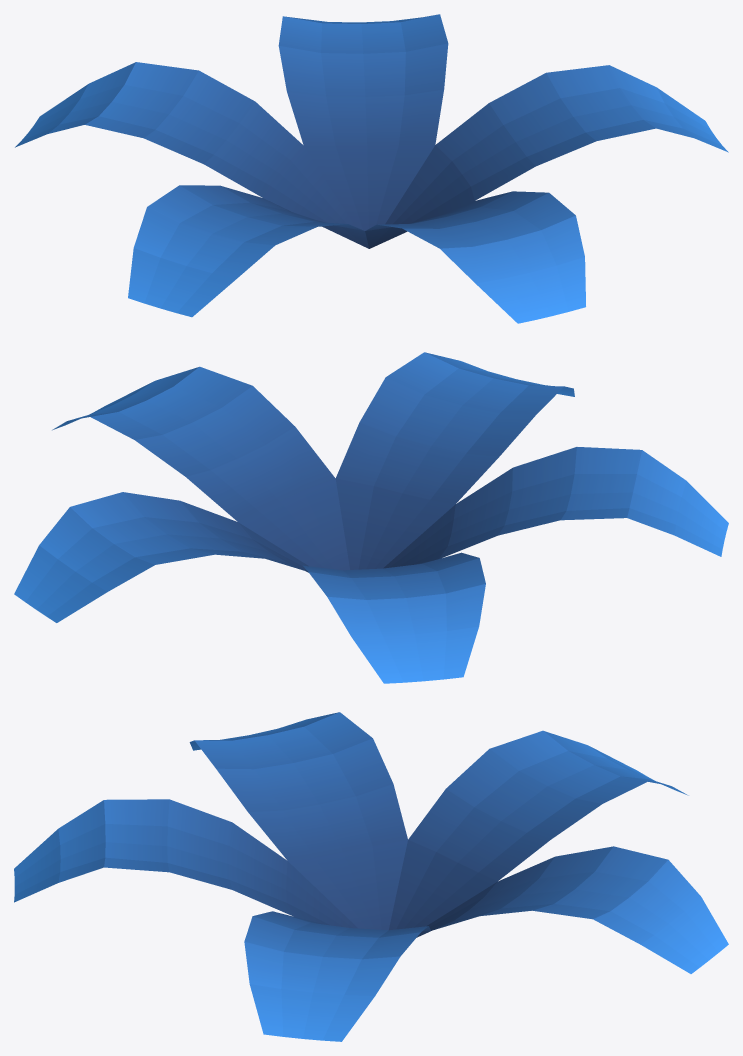
File: BlueBush.fbx
The picture shows the model from 3 angles, top to bottom: view 1: azimuth 30°, elevation 25°; view 2: azimuth 150°, elevation 25°; view 3: azimuth 270°, elevation 25°; orthographic projection. The views are drawn at different scales.
Parts seen in each view (by area): view 1: BlueBush; view 2: BlueBush; view 3: BlueBush.
Part boxes in pixels (x1,y1,x2,y2): BlueBush: (15,14,728,323); BlueBush: (14,352,728,683); BlueBush: (14,712,728,1041).
Size of the model in its own units: 343 by 62.59 by 339.
